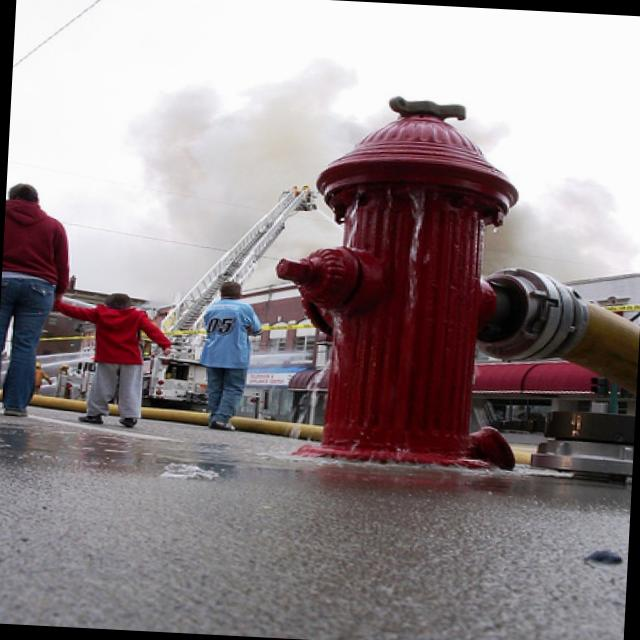Vehicle: (141, 342, 211, 412)
